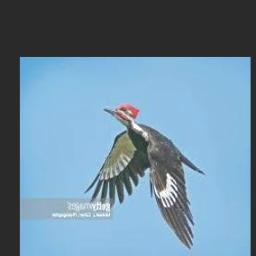Woodpecker: (84, 104, 206, 250)
